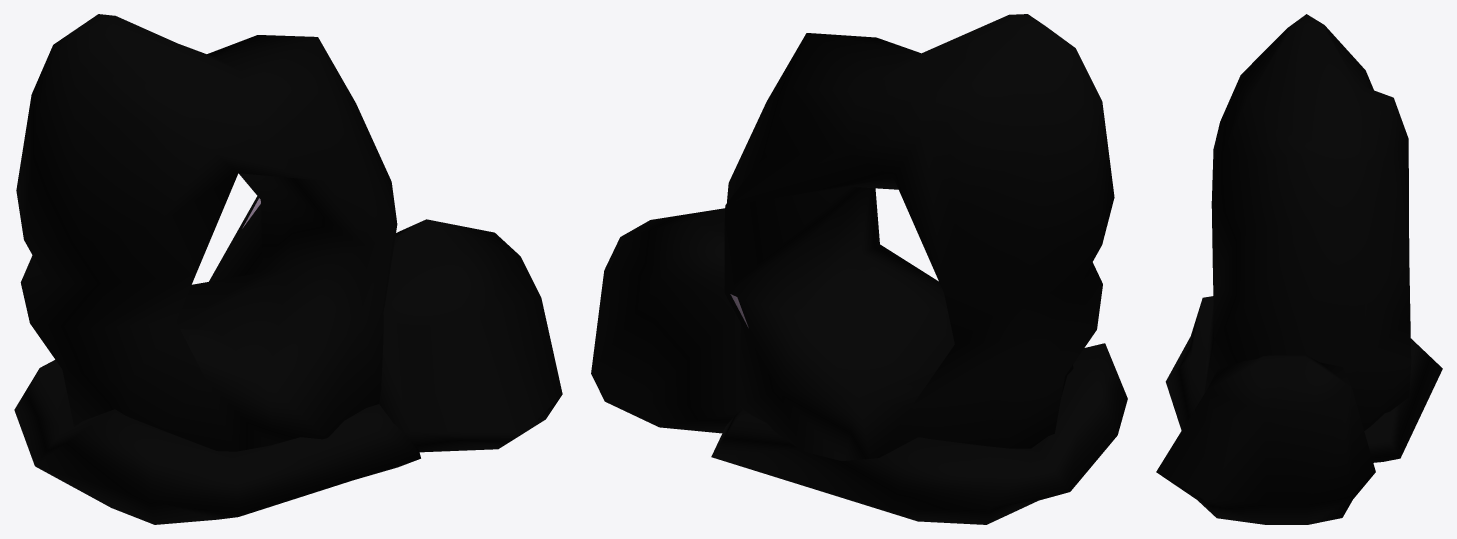
The model's file is s0_Rock_02__1__01.glb.
3 views of the same model, side by side, from view 1: azimuth 30°, elevation 25°; view 2: azimuth 150°, elevation 25°; view 3: azimuth 270°, elevation 25° (orthographic). The views are drawn at different scales.
Visible parts, largest first — view 1: node_Rock_02_Outline; view 2: node_Rock_02_Outline; view 3: node_Rock_02_Outline.
Part boxes in pixels (<box>): node_Rock_02_Outline: <box>14,14,562,524</box>; node_Rock_02_Outline: <box>591,14,1127,524</box>; node_Rock_02_Outline: <box>1156,14,1442,524</box>.
Size of what is drawn, in the model's own units: 2.6 by 2.39 by 1.7.
3 materials, 2 textured.
